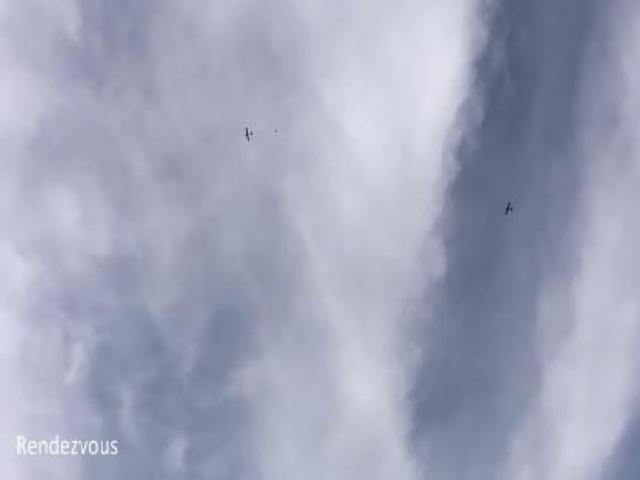uav: (243, 125, 254, 143), (504, 199, 514, 215)
